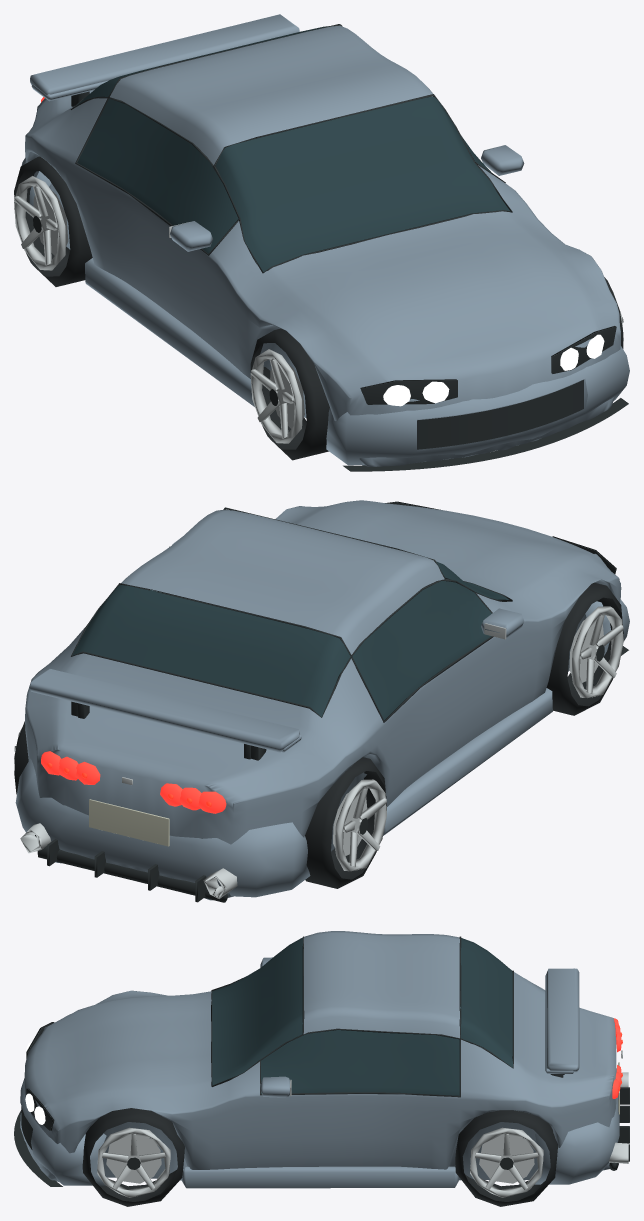
Rendered from ossyra-luneth.glb.
3 renders of one model, top to bottom at view 1: azimuth 30°, elevation 25°; view 2: azimuth 150°, elevation 25°; view 3: azimuth 270°, elevation 25°, orthographic. The views are drawn at different scales.
Parts seen in each view (by area): view 1: cofano, cristallo_ant, scocca, tetto, porta_sx, cristallo_sx, paraurti_ant, spoiler, griglia, minigonna_sx, ruota_ant_sx_gomma, ruota_post_sx_gomma (+16 smaller); view 2: scocca, tetto, cristallo_post, portellone, cofano, paraurti_post, porta_sx, cristallo_sx, spoiler, minigonna_sx, ruota_post_sx_gomma, ruota_ant_sx_gomma (+14 smaller); view 3: scocca, porta_dx, tetto, cofano, cristallo_dx, cristallo_ant, portellone, minigonna_dx, cristallo_post, spoiler, paraurti_post, ruota_ant_dx_gomma (+13 smaller).
Part boxes in pixels (x1,y1,x2,y2): cofano: (263, 211, 598, 373); cristallo_ant: (215, 96, 510, 272); scocca: (25, 98, 620, 466); tetto: (110, 25, 432, 164); porta_sx: (75, 164, 223, 355); cristallo_sx: (77, 98, 238, 253); paraurti_ant: (326, 346, 629, 465); spoiler: (30, 14, 299, 94); griglia: (417, 379, 583, 449); minigonna_sx: (85, 258, 254, 406); ruota_ant_sx_gomma: (250, 328, 329, 460); ruota_post_sx_gomma: (14, 156, 92, 286); scocca: (25, 504, 621, 900); tetto: (121, 509, 444, 654); cristallo_post: (72, 585, 350, 716); portellone: (51, 653, 321, 789); cofano: (294, 500, 598, 600); paraurti_post: (15, 758, 310, 897); porta_sx: (362, 632, 515, 806); cristallo_sx: (352, 581, 491, 720); spoiler: (30, 668, 299, 752); minigonna_sx: (383, 688, 552, 835); ruota_post_sx_gomma: (305, 757, 386, 888); ruota_ant_sx_gomma: (546, 582, 623, 715); scocca: (24, 981, 616, 1181); porta_dx: (245, 1094, 460, 1180); tetto: (303, 931, 460, 1038); cofano: (46, 991, 211, 1108); cristallo_dx: (261, 1030, 459, 1095); cristallo_ant: (212, 937, 302, 1085); portellone: (513, 972, 616, 1088); minigonna_dx: (182, 1166, 458, 1188); cristallo_post: (460, 938, 512, 1067); spoiler: (546, 968, 579, 1072); paraurti_post: (535, 1068, 619, 1184); ruota_ant_dx_gomma: (82, 1108, 184, 1206).
Size of the model in its own units: 2.01 by 1.29 by 4.02.
